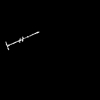treble_crochet: (6, 32, 38, 46)
